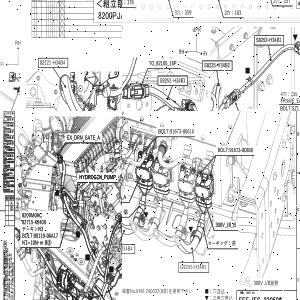PartNumber: (204, 61, 231, 70), (159, 76, 186, 84), (21, 218, 47, 226), (180, 263, 207, 270), (40, 59, 66, 66), (255, 37, 282, 43), (170, 128, 195, 134), (229, 147, 254, 153), (34, 233, 58, 239), (122, 245, 133, 251), (291, 105, 300, 111)
